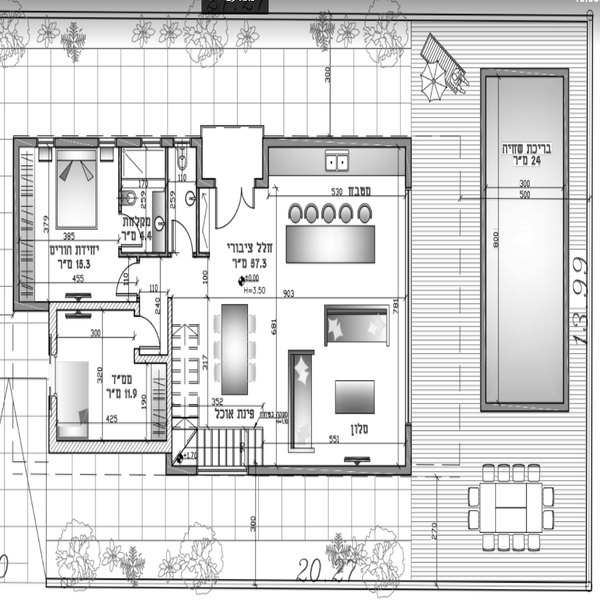door: (204, 183, 263, 225), (113, 211, 152, 254), (128, 309, 164, 348), (111, 260, 145, 299), (166, 217, 197, 257)
room: (161, 295, 417, 479), (174, 125, 416, 293), (8, 132, 171, 304), (46, 299, 177, 460)
wall: (555, 55, 577, 410), (478, 67, 493, 412), (245, 459, 408, 484), (8, 134, 25, 310), (265, 131, 411, 150), (166, 290, 184, 444), (43, 437, 171, 458), (478, 60, 572, 84), (26, 296, 145, 313), (472, 399, 571, 418), (164, 144, 176, 255), (112, 147, 131, 214), (397, 134, 418, 186), (43, 312, 62, 360), (190, 135, 207, 188), (56, 133, 100, 153), (129, 351, 169, 373), (42, 391, 62, 433), (159, 459, 195, 480), (118, 246, 171, 260), (259, 146, 276, 189)
